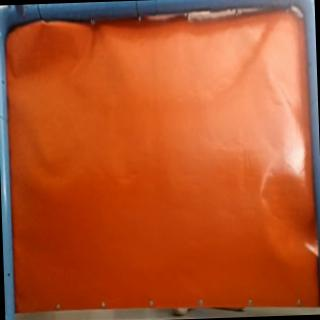Hit-hRxx: (252, 44, 274, 60)
